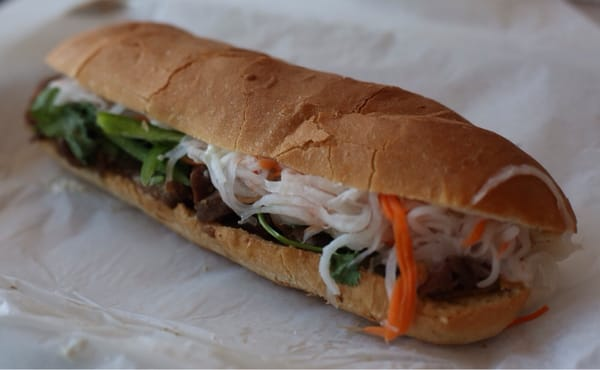soup: (26, 14, 588, 349)
